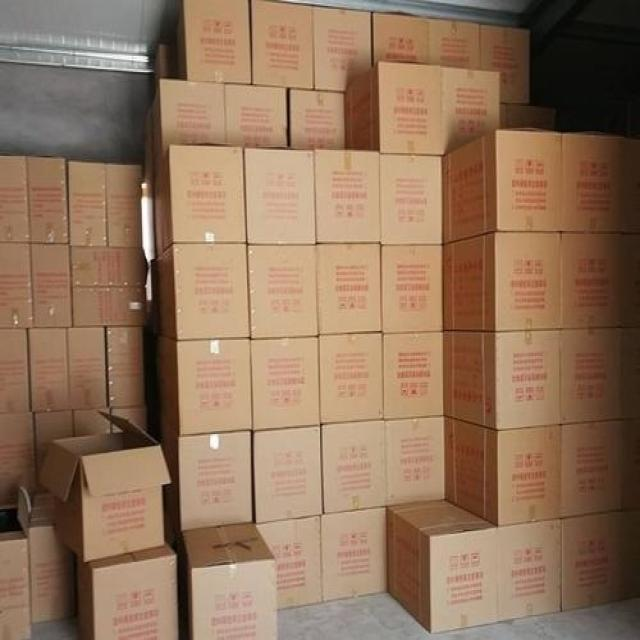box: (40, 412, 174, 562), (388, 499, 498, 633), (442, 129, 561, 243), (444, 416, 563, 527), (442, 328, 562, 431), (443, 231, 562, 331), (183, 521, 278, 640), (76, 544, 178, 640), (344, 59, 443, 153), (562, 509, 640, 612), (559, 327, 640, 425), (558, 232, 640, 328), (561, 134, 640, 232), (561, 421, 640, 518), (173, 243, 251, 341), (248, 335, 324, 435), (177, 430, 252, 531), (170, 146, 247, 243), (177, 337, 252, 435), (497, 519, 563, 624), (246, 147, 317, 244), (253, 427, 323, 524), (248, 243, 317, 338), (257, 515, 323, 612), (320, 421, 388, 515), (317, 331, 385, 424), (321, 508, 388, 602), (314, 149, 380, 243), (317, 243, 381, 337), (379, 153, 443, 246), (380, 243, 444, 334), (183, 0, 251, 84), (251, 0, 314, 90), (376, 418, 438, 509), (385, 330, 445, 419), (159, 78, 225, 156), (442, 66, 499, 156), (31, 506, 74, 622), (314, 6, 372, 91), (479, 22, 531, 104), (225, 84, 285, 149), (65, 327, 108, 413), (27, 156, 68, 244), (28, 328, 69, 413), (31, 244, 72, 328), (0, 530, 31, 639), (289, 90, 344, 149), (69, 160, 106, 247), (105, 163, 143, 247), (68, 246, 145, 287), (105, 325, 143, 408), (72, 285, 147, 327), (0, 241, 35, 330), (372, 13, 430, 65), (0, 415, 36, 496), (0, 156, 31, 244), (429, 18, 481, 69), (35, 412, 74, 480), (0, 328, 31, 413), (499, 103, 556, 132), (74, 410, 113, 437)
